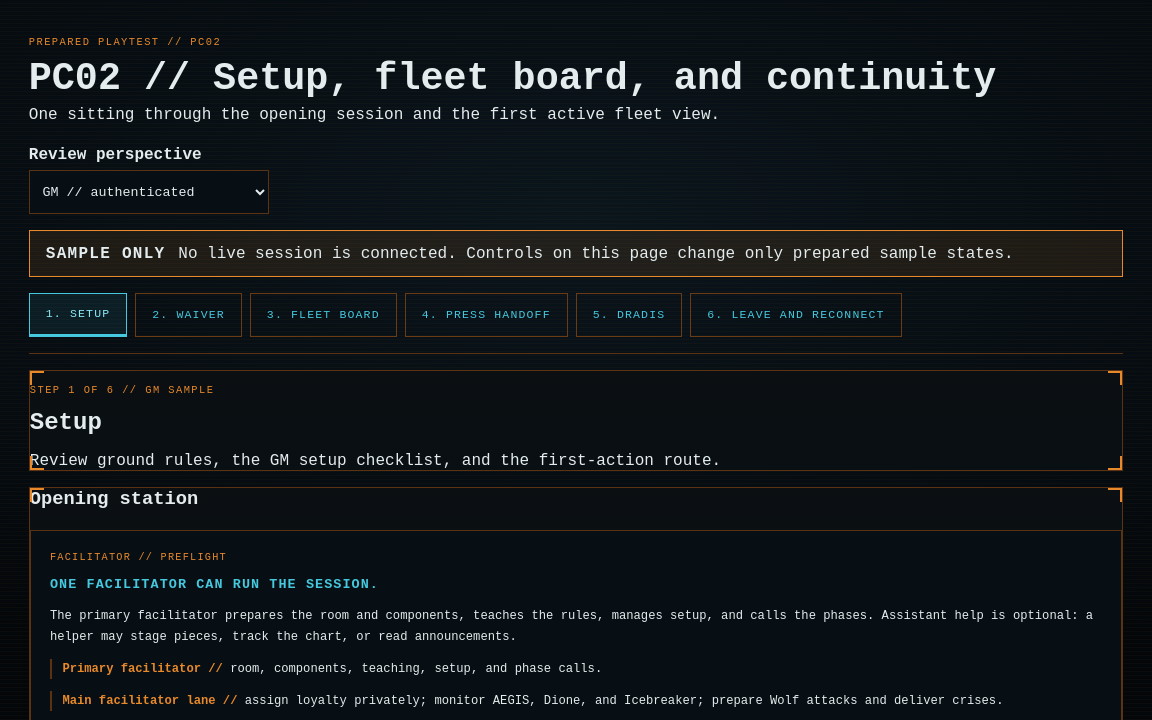
it: uses the real plot for an interactive first-contact and repeat-sweep review
Click the button "5. DRADIS" at (629, 315), box x1=576 y1=293 x2=682 y2=337
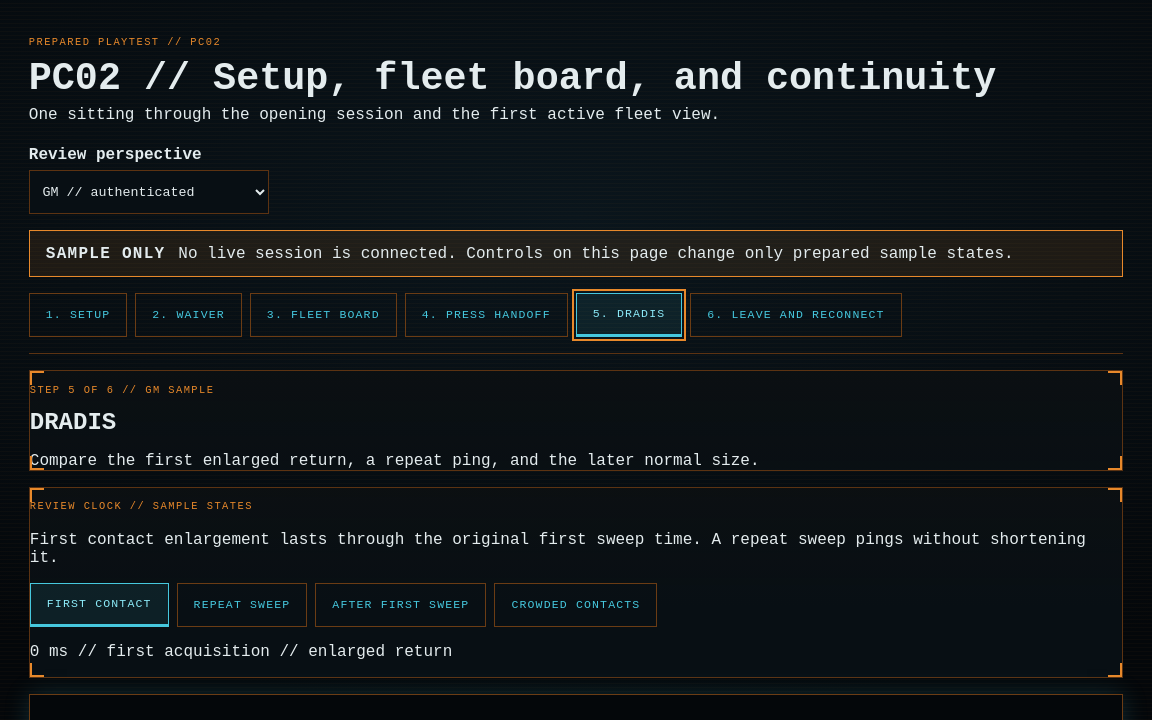
Check: the button "Repeat sweep" is shown, box x1=177 y1=583 x2=307 y2=627
Check: the button "After first sweep" is shown, box x1=315 y1=583 x2=486 y2=627
Check: the text "First contact enlargement" is shown, box x1=30 y1=531 x2=1086 y2=567
Click the button "Crowded contacts" at (576, 605), box x1=494 y1=583 x2=657 y2=627
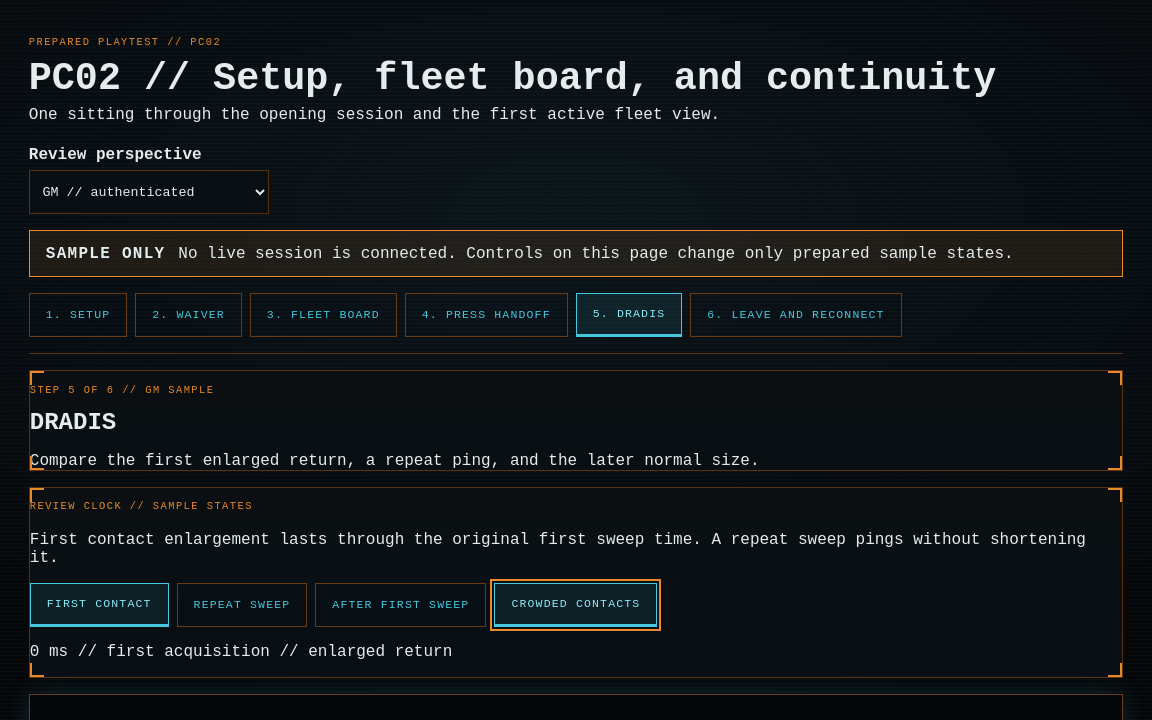
Click the button "Repeat sweep" at (242, 605), box x1=177 y1=583 x2=307 y2=627
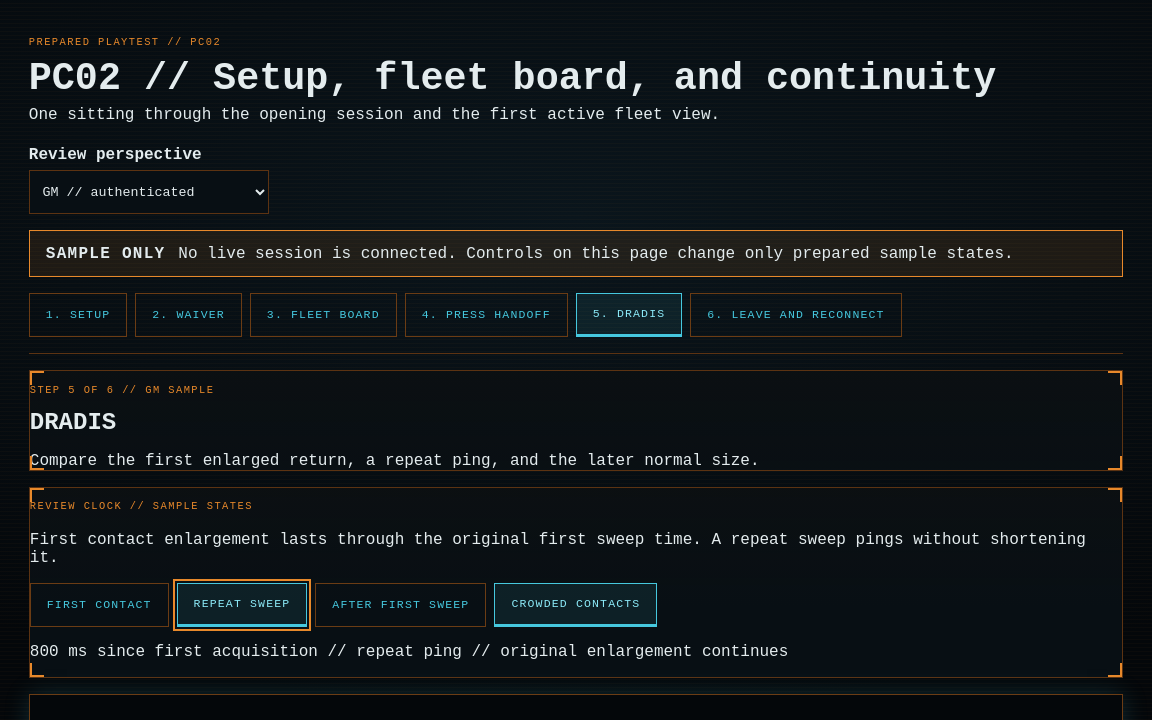
Check: the message shows "800 ms", box x1=30 y1=643 x2=788 y2=661
Click the button "After first sweep" at (401, 605), box x1=315 y1=583 x2=486 y2=627
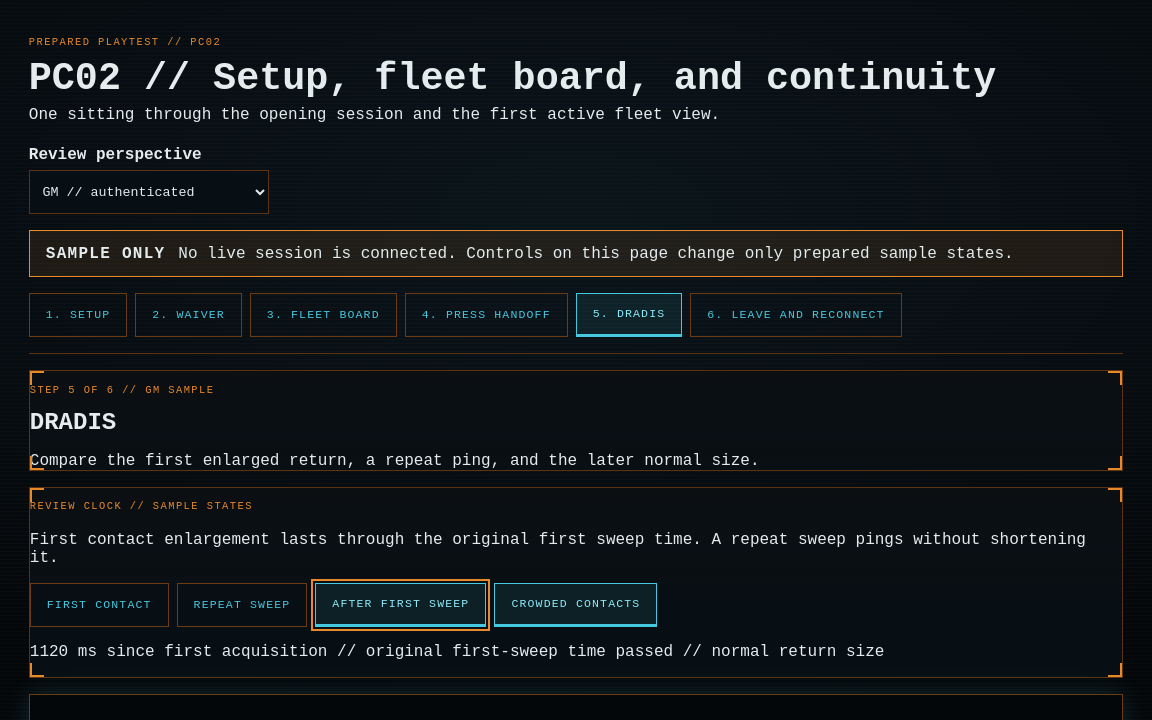
Check: the message shows "1120 ms", box x1=30 y1=643 x2=884 y2=661
